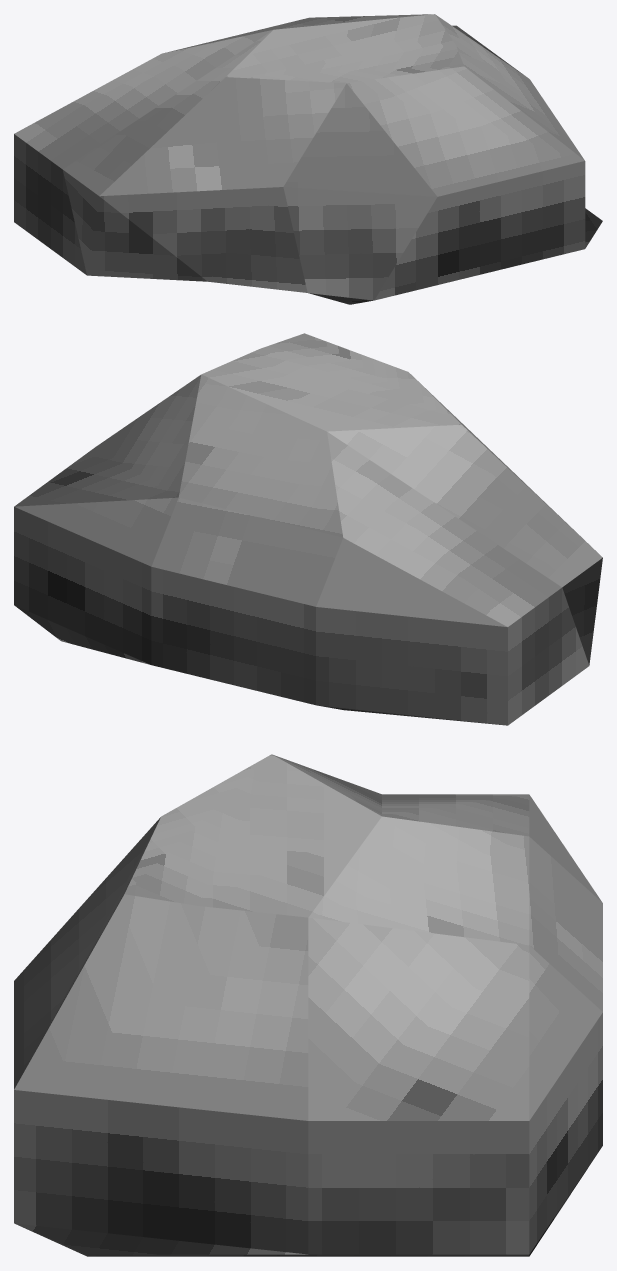
File: Rock1111.fbx
3 views of the same model, one above another, from view 1: azimuth 30°, elevation 25°; view 2: azimuth 150°, elevation 25°; view 3: azimuth 270°, elevation 25° (orthographic). The views are drawn at different scales.
Visible parts, largest first — view 1: Rock_1; view 2: Rock_1; view 3: Rock_1.
Boxes of the visible parts, x1,y1,x2,y2 form: Rock_1: (14, 14, 602, 304); Rock_1: (14, 333, 602, 725); Rock_1: (14, 754, 602, 1256).
Bounding box in the file's own units: 131 × 56.25 × 100.
Materials: 1 (1 with a texture image).
